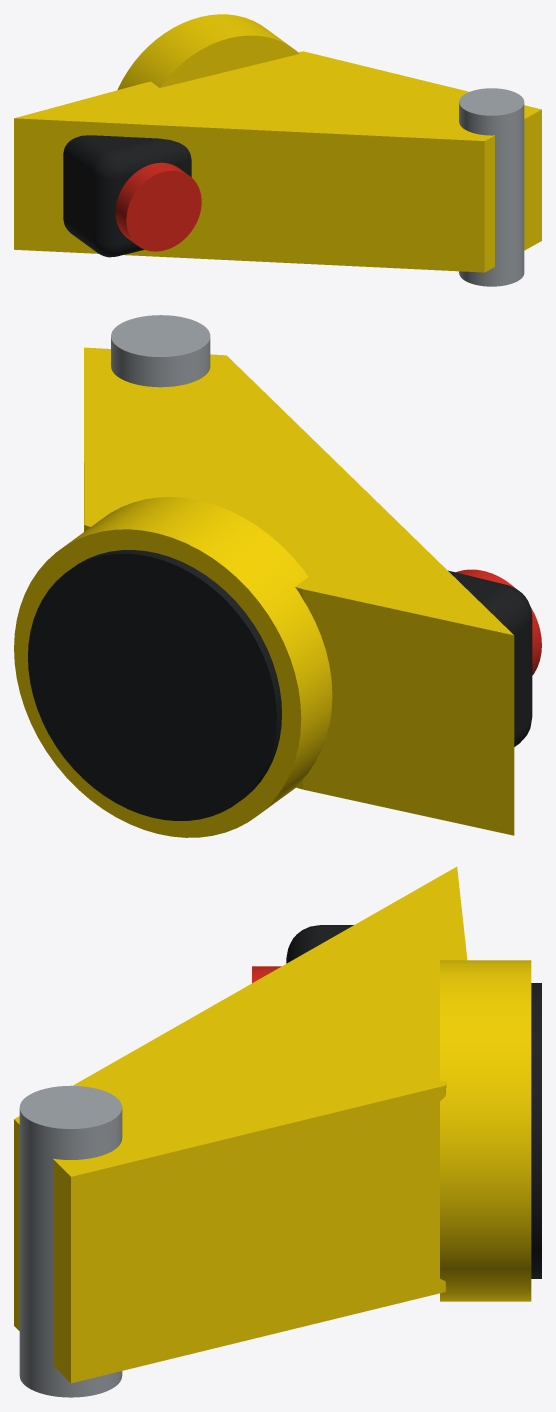
Rendered from wrist_link.obj.
3 renders of one model, top to bottom at view 1: azimuth 30°, elevation 25°; view 2: azimuth 150°, elevation 25°; view 3: azimuth 270°, elevation 25°, orthographic. The views are drawn at different scales.
Visible parts, largest first — view 1: wrist_bracket, j4_motor, level_pin_front, j4_housing, j4_motor_cover; view 2: wrist_bracket, j4_reducer, j4_housing, level_pin_front, j4_motor, j4_motor_cover; view 3: wrist_bracket, j4_housing, level_pin_front, j4_reducer, j4_motor.
Part boxes in pixels (x1,y1,x2,y2): wrist_bracket: [14, 51, 541, 272]; j4_motor: [63, 135, 191, 257]; level_pin_front: [459, 88, 524, 286]; j4_housing: [117, 14, 299, 90]; j4_motor_cover: [115, 162, 201, 251]; wrist_bracket: [84, 347, 514, 835]; j4_reducer: [28, 550, 281, 820]; j4_housing: [14, 497, 332, 837]; level_pin_front: [111, 315, 210, 387]; j4_motor: [448, 570, 532, 746]; j4_motor_cover: [456, 569, 541, 675]; wrist_bracket: [14, 866, 467, 1383]; j4_housing: [440, 960, 531, 1301]; level_pin_front: [19, 1085, 122, 1397]; j4_reducer: [531, 983, 541, 1278]; j4_motor: [286, 925, 353, 963].
Bounding box in the file's own units: 0.645 × 0.3 × 0.4635.
